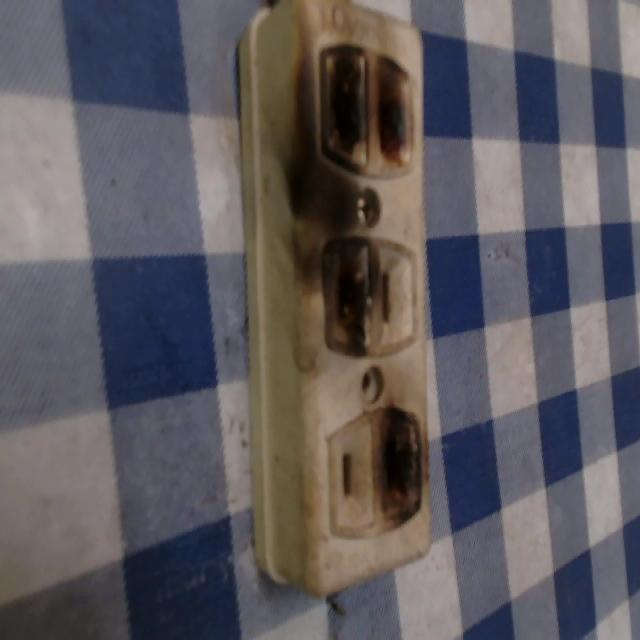-: (313, 33, 429, 196), (315, 229, 384, 360), (369, 399, 435, 529)
